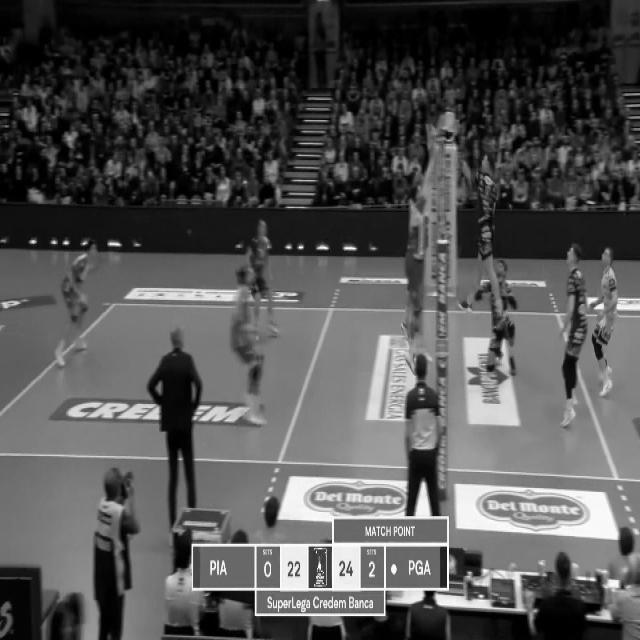volleyball court: (0, 298, 638, 478)
